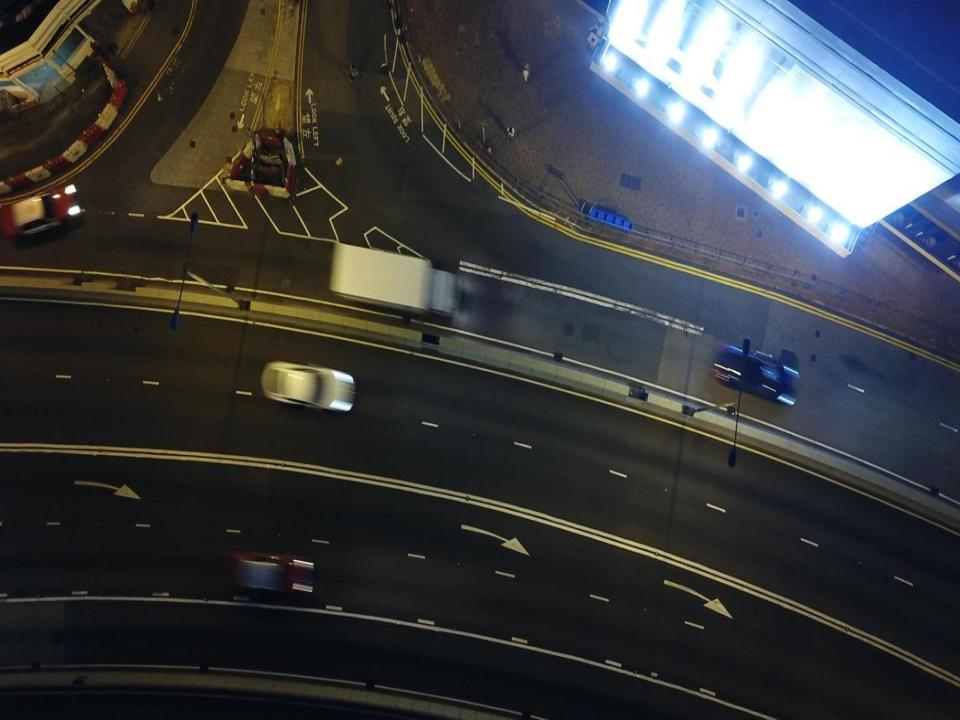car: (711, 343, 800, 410), (260, 357, 355, 416), (4, 184, 81, 238), (234, 548, 313, 599)
truck: (328, 240, 468, 326)
